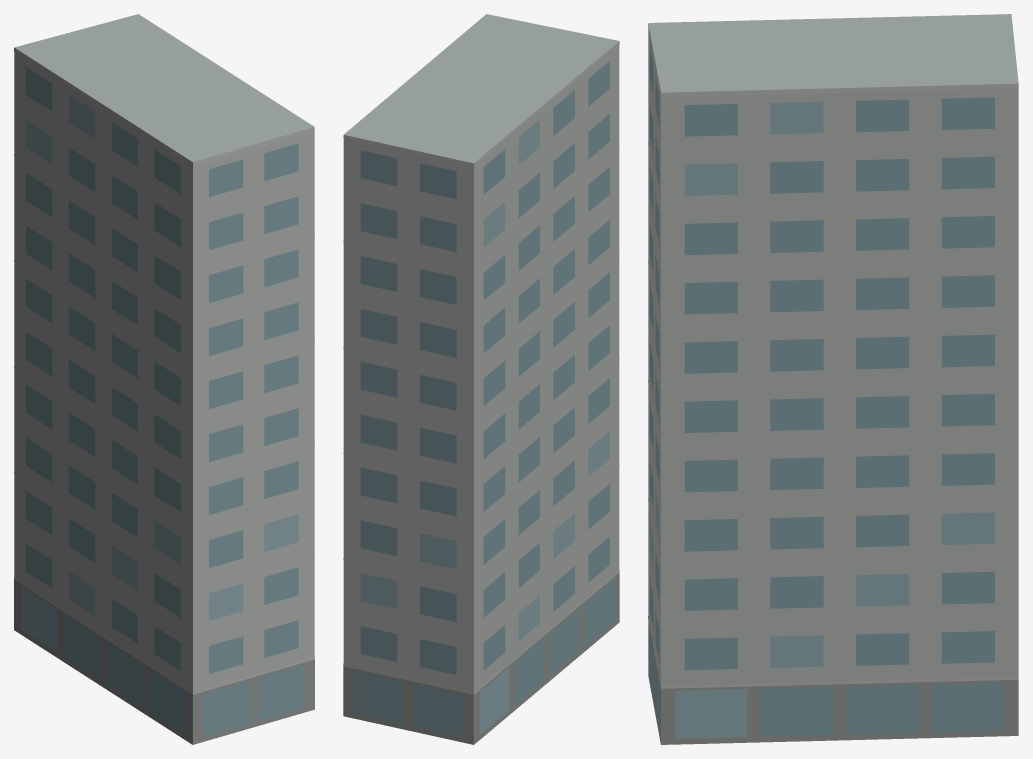
Rendered from survey-upis-32981396.glb.
3 views of the same model, side by side, from view 1: azimuth 30°, elevation 25°; view 2: azimuth 150°, elevation 25°; view 3: azimuth 270°, elevation 25° (orthographic). The views are drawn at different scales.
Parts seen in each view (by area): view 1: survey-upis-32981396.tmp; view 2: survey-upis-32981396.tmp; view 3: survey-upis-32981396.tmp.
Part boxes in pixels (x1=…): survey-upis-32981396.tmp: x1=14, y1=14, x2=314, y2=744; survey-upis-32981396.tmp: x1=343, y1=14, x2=619, y2=744; survey-upis-32981396.tmp: x1=648, y1=14, x2=1018, y2=744.
Size of the model in its own units: 8.74 by 33.7 by 17.37.
